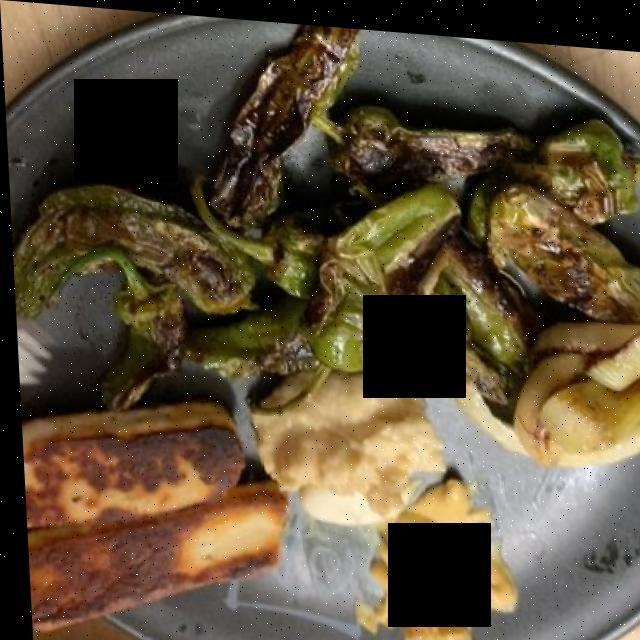bell-pepper: (15, 28, 640, 399)
cake: (437, 321, 640, 460)
halloumi: (24, 385, 286, 628)
mustard: (344, 477, 515, 640)
